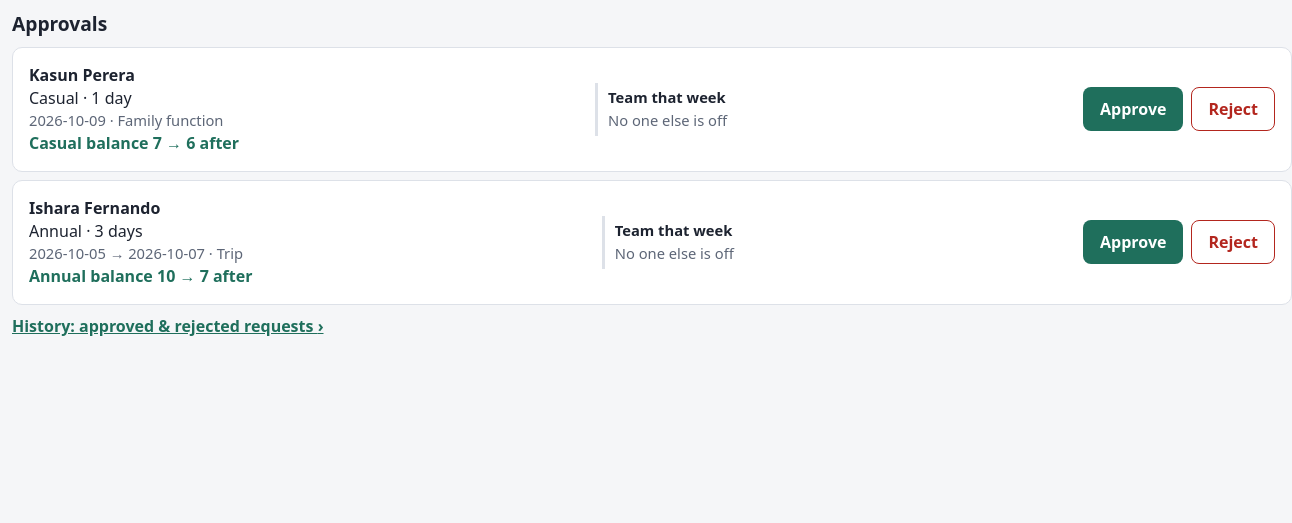
Approvals (manager) › the History link shows approved and rejected requests with who decided
The width and height of the screenshot is (1292, 523).
Expected: the list item with test id "approval-7" is shown, top-left (12, 180), bottom-right (1291, 305)
Click the button "History: approved & rejected requests ›" at coordinates (168, 327), box top-left (12, 305), bottom-right (324, 349)
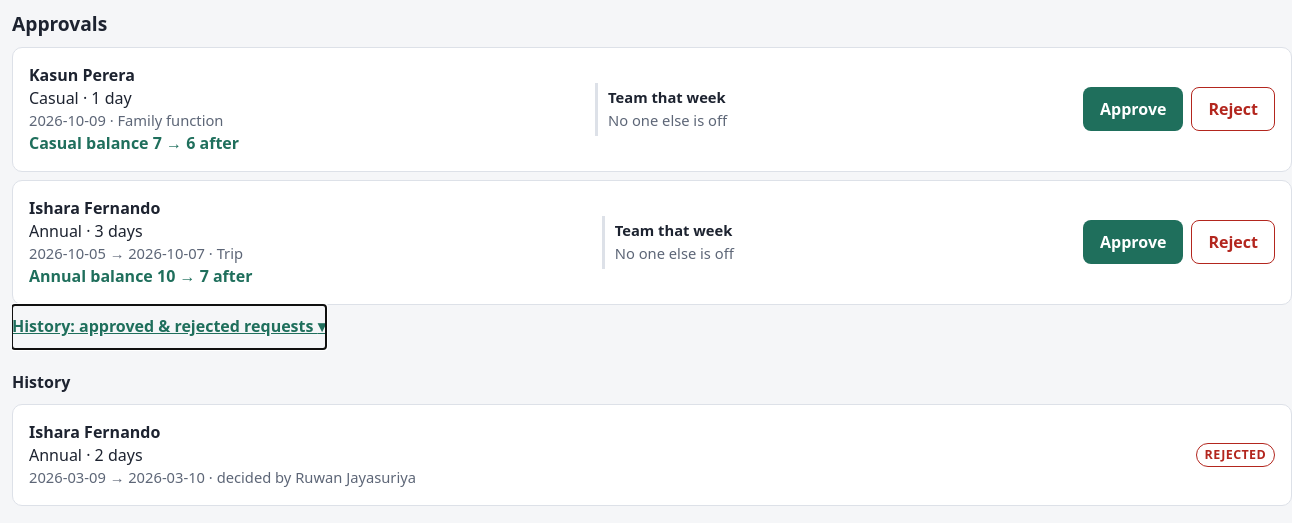
Now the text "REJECTED" is shown, box top-left (1196, 443), bottom-right (1275, 467)
Now the list item with test id "history-5" shows "decided by Ruwan Jayasuriya", box top-left (12, 404), bottom-right (1291, 506)
Now the button "History: approved & rejected requests ▾" is expanded, box top-left (12, 305), bottom-right (326, 349)
